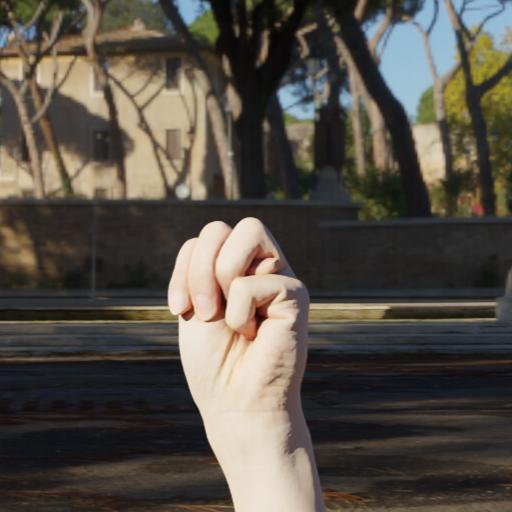M: (171, 182, 339, 498)
